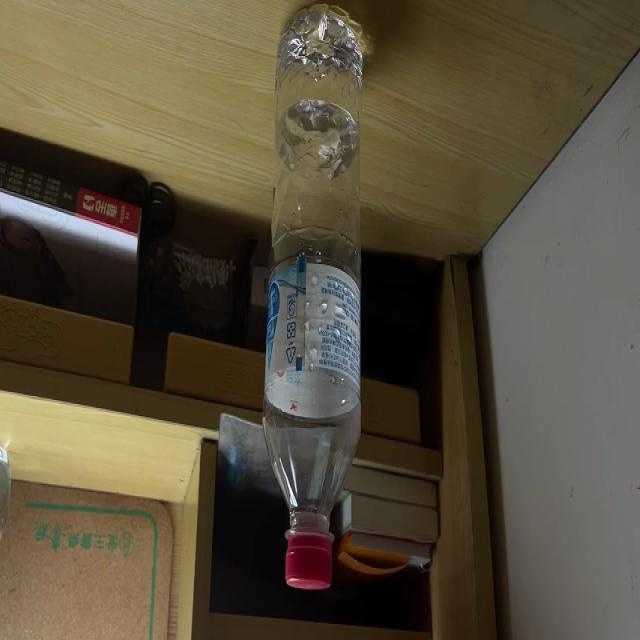Water: (260, 4, 362, 594)
